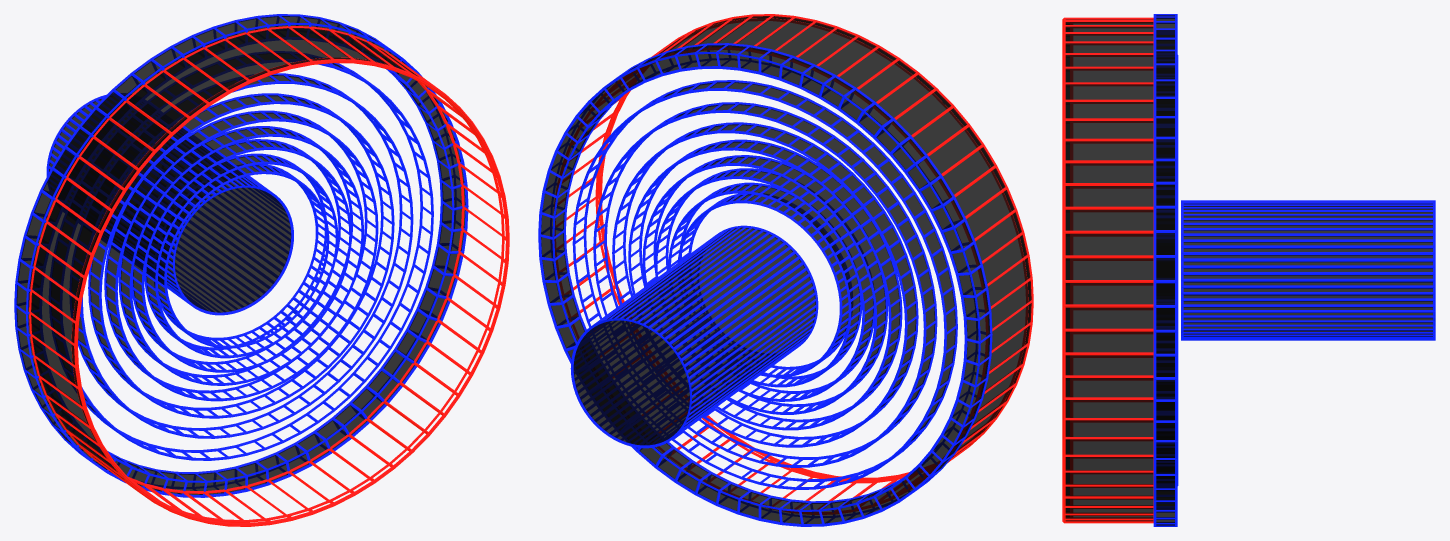
File: fun001-body-sub.glb
The picture shows the model from 3 angles, left to right: view 1: azimuth 30°, elevation 25°; view 2: azimuth 150°, elevation 25°; view 3: azimuth 270°, elevation 25°; orthographic projection.
Visible parts, largest first — view 1: line-body; view 2: line-body; view 3: line-body.
Boxes of the visible parts, x1=… form: line-body: x1=14, y1=14, x2=509, y2=526; line-body: x1=538, y1=14, x2=1033, y2=526; line-body: x1=1062, y1=14, x2=1435, y2=526.
Size of the model in its own units: 0.3331 by 0.3331 by 0.242.
